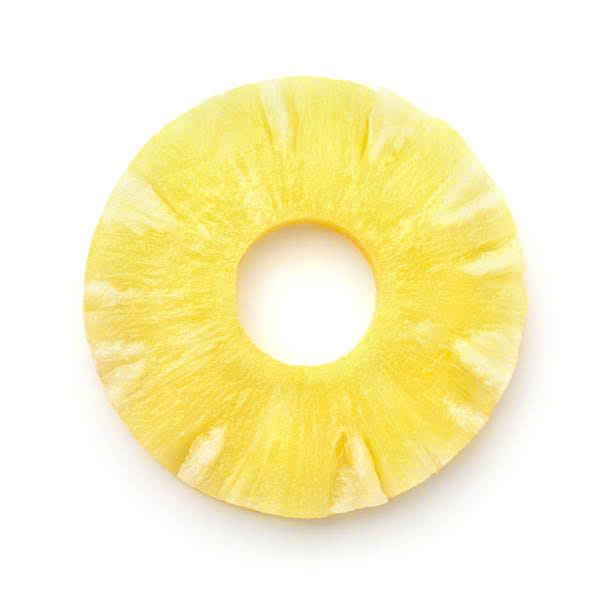pineapple: (74, 72, 532, 526)
